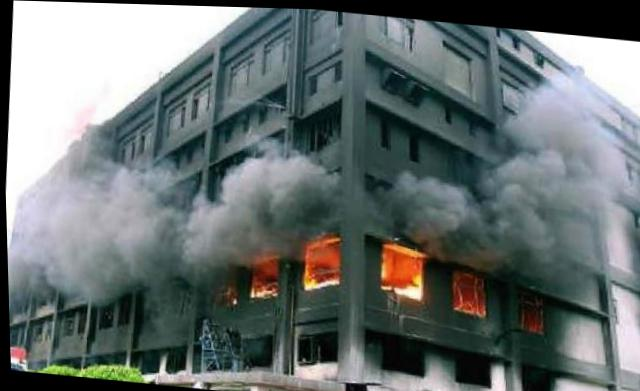fire: (374, 238, 424, 295), (302, 235, 341, 285), (448, 267, 486, 309), (246, 250, 277, 293)
smoke: (2, 101, 278, 236), (362, 171, 625, 264), (475, 53, 629, 192), (5, 205, 216, 288), (266, 139, 332, 232)
